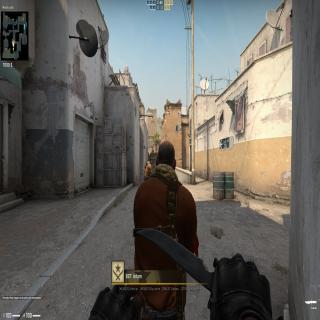T-Head: (156, 139, 177, 173), (148, 157, 152, 164)
